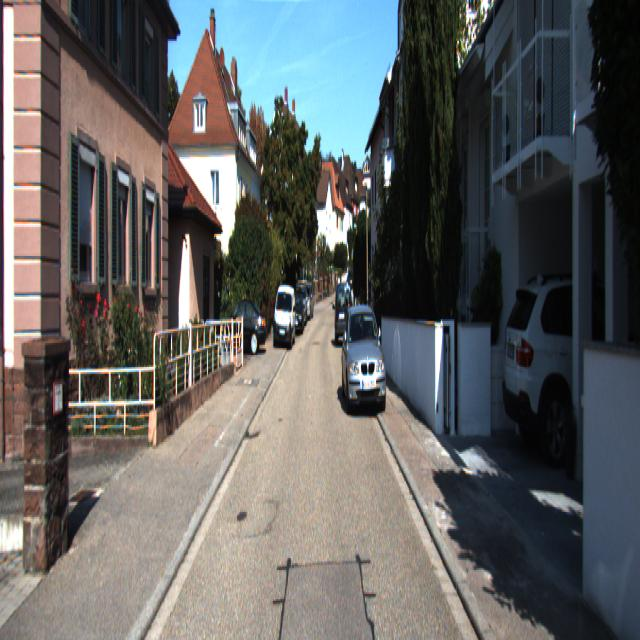Car: (500, 263, 640, 470), (341, 303, 386, 421), (214, 301, 267, 361)
DontCare: (296, 266, 315, 340)
Van: (272, 286, 297, 352), (334, 280, 353, 344)
